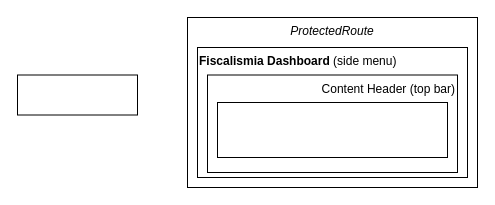
This 495x205 diagram has some shape labels left out. The shapes that lost their labels are listed below. From the top down, each one's centre as x and y in pixels, then its label:
[77,94]: LoginPage
[332,130]: Dashboard Content e.g. Home index
